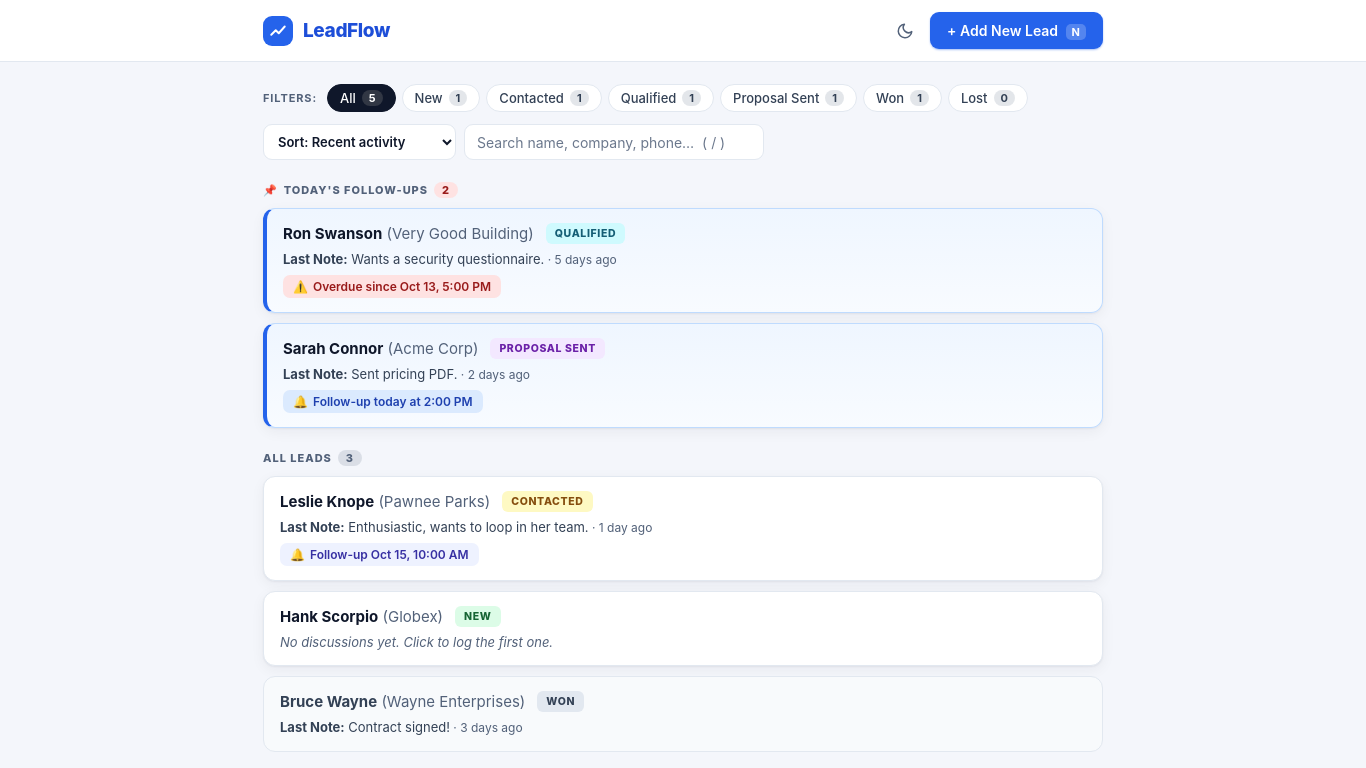
Test: lead dialog › rolls back the optimistic note and restores the form when the server rejects it
The image size is (1366, 768).
Click the button "Hank Scorpio" at (329, 616), box x1=263 y1=590 x2=1103 y2=666
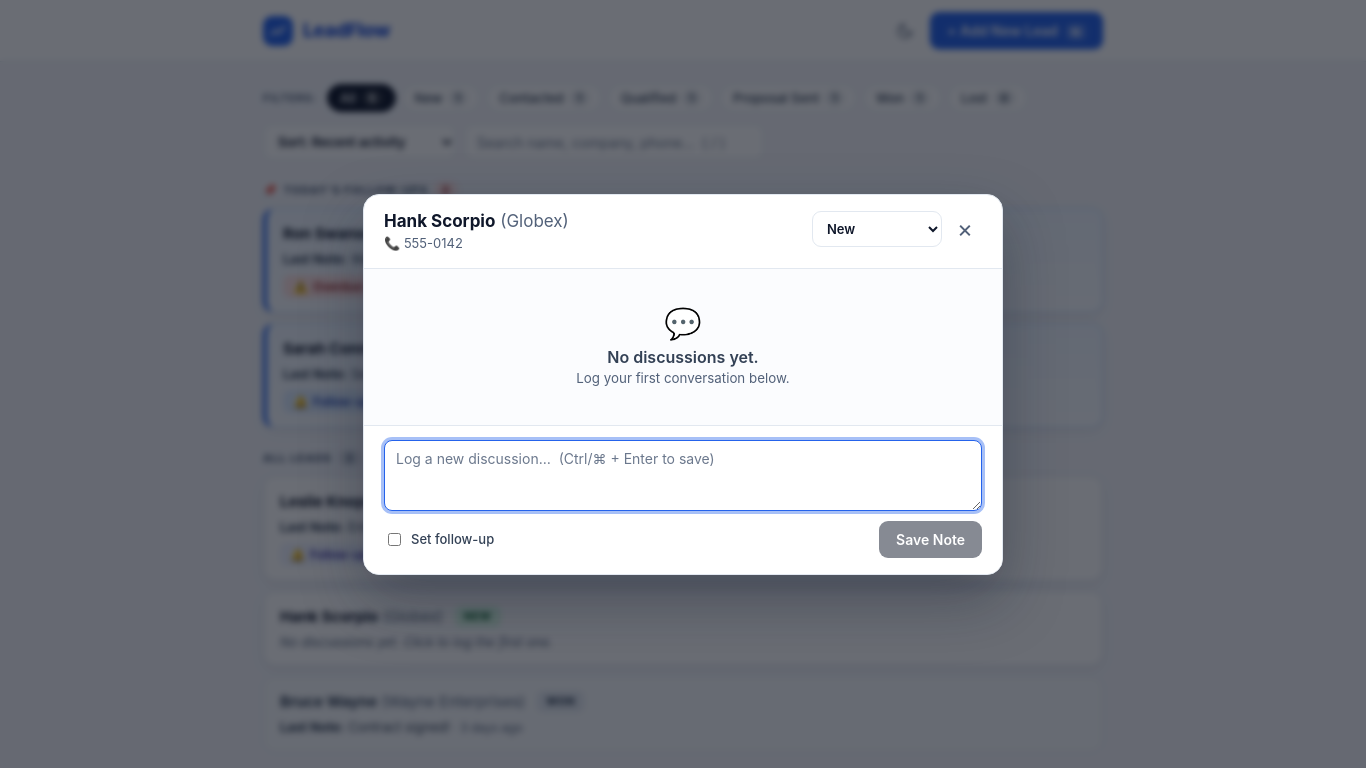
expect the text "No discussions yet." is shown: met, box x1=607 y1=346 x2=759 y2=366
Type "This will fail" into the text box named "new discussion note" at (683, 475), box x1=384 y1=440 x2=982 y2=510
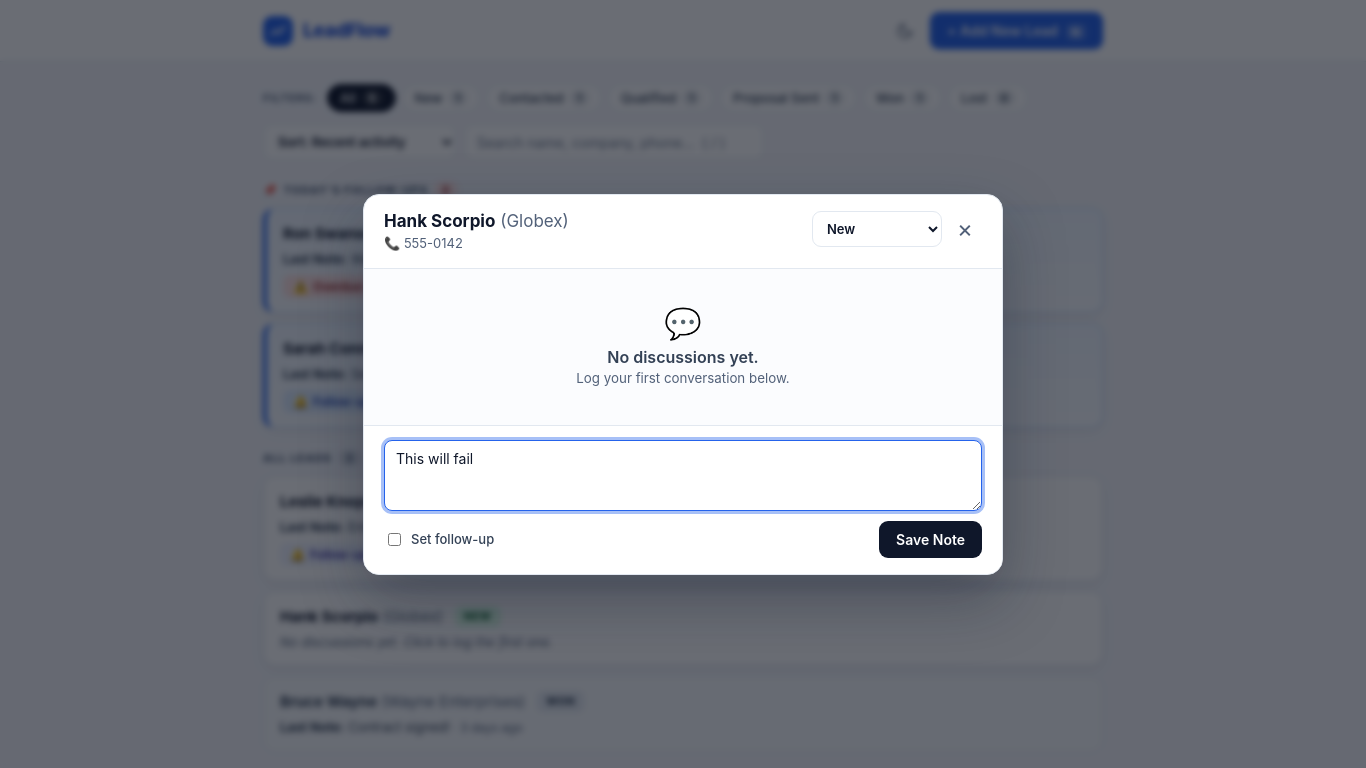
Click the button "Save Note" at (931, 539), box x1=879 y1=520 x2=982 y2=558
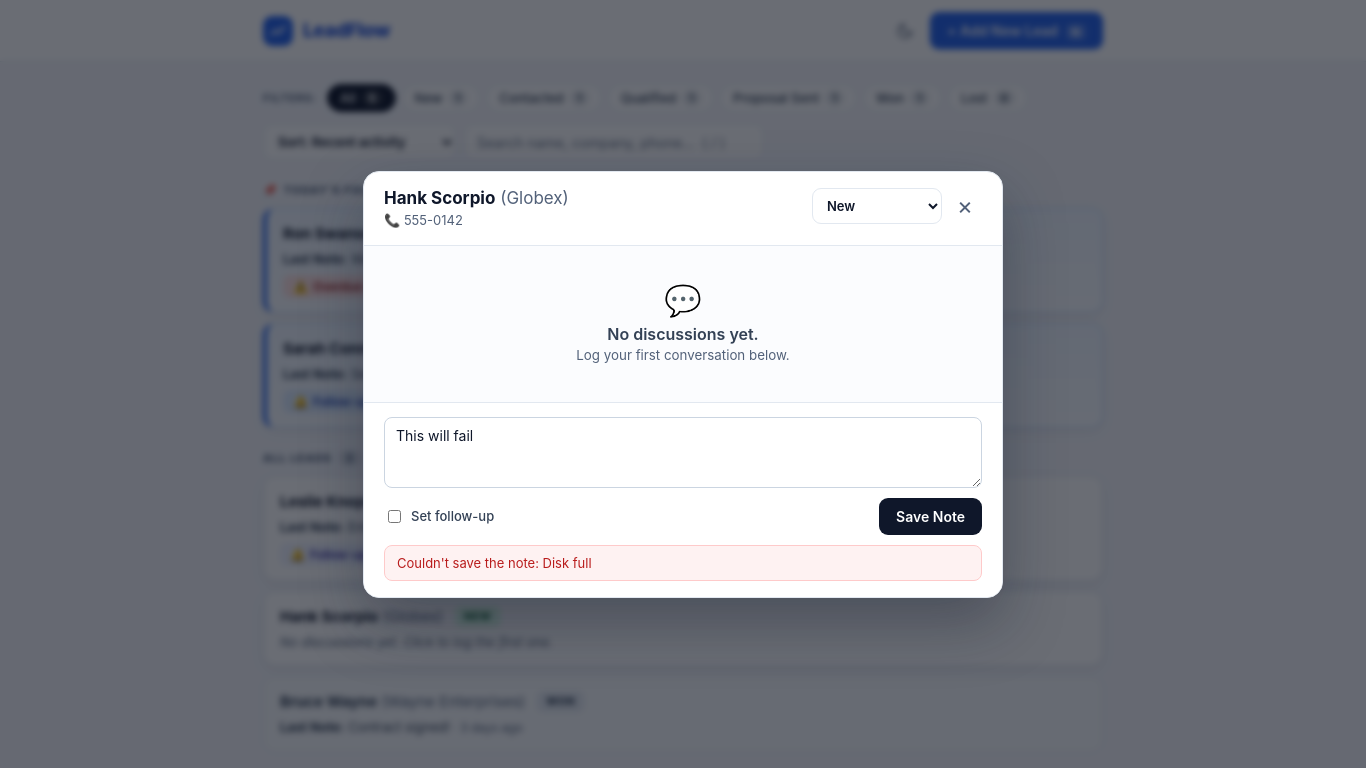
expect the text "No discussions yet." is shown: met, box x1=607 y1=324 x2=759 y2=344
expect the text "Couldn't save the note: Disk full" is shown: met, box x1=384 y1=544 x2=982 y2=580
